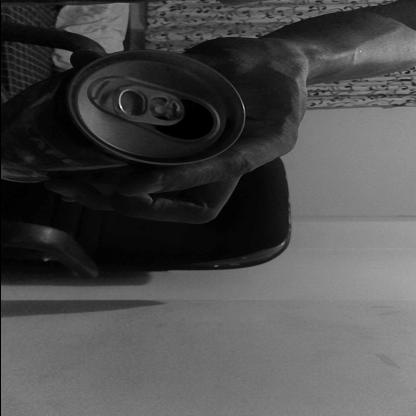alumunium_can: (10, 52, 242, 180)
